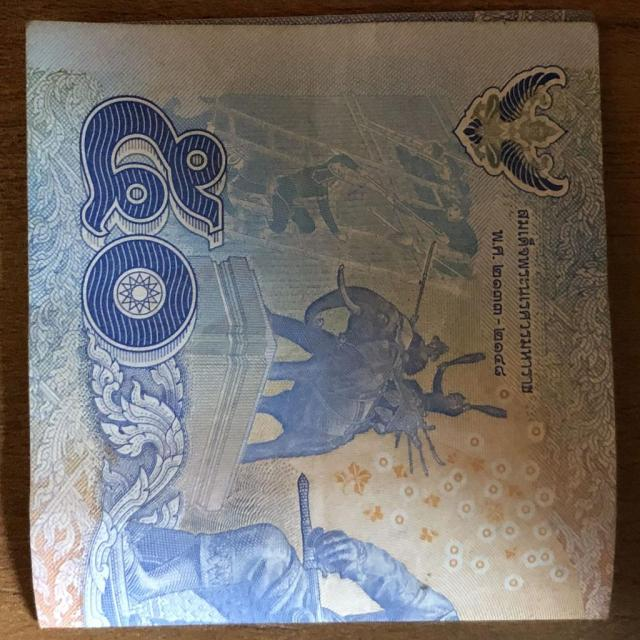THAI50: (24, 14, 617, 631)
